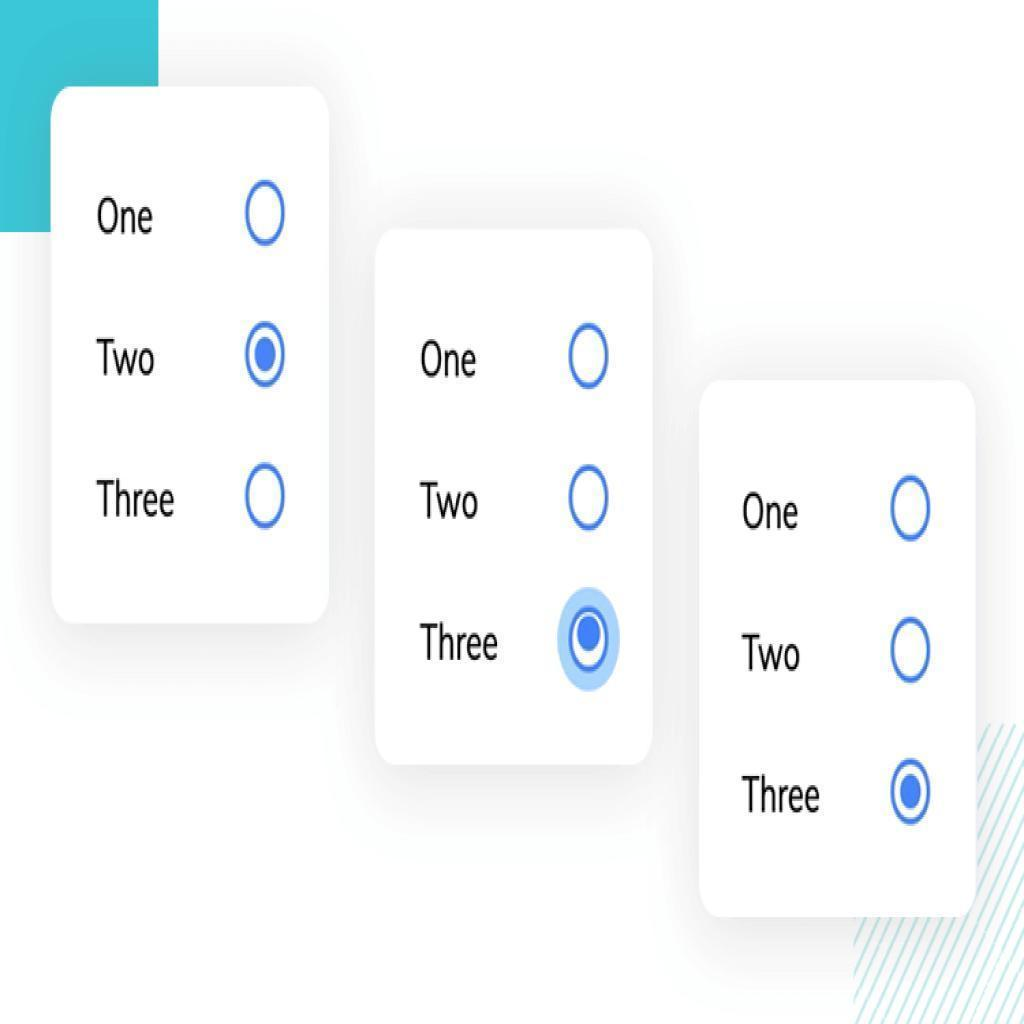label: (740, 766, 828, 821), (94, 473, 182, 525), (420, 620, 505, 669), (734, 624, 807, 679), (92, 194, 164, 245), (737, 486, 809, 536), (414, 333, 484, 383), (419, 469, 481, 524), (94, 334, 159, 381)
radio: (554, 585, 622, 692), (885, 754, 934, 827), (887, 616, 935, 685), (889, 471, 933, 544), (566, 463, 611, 532), (243, 177, 286, 249), (566, 322, 609, 394), (243, 318, 285, 391), (243, 462, 287, 531)
